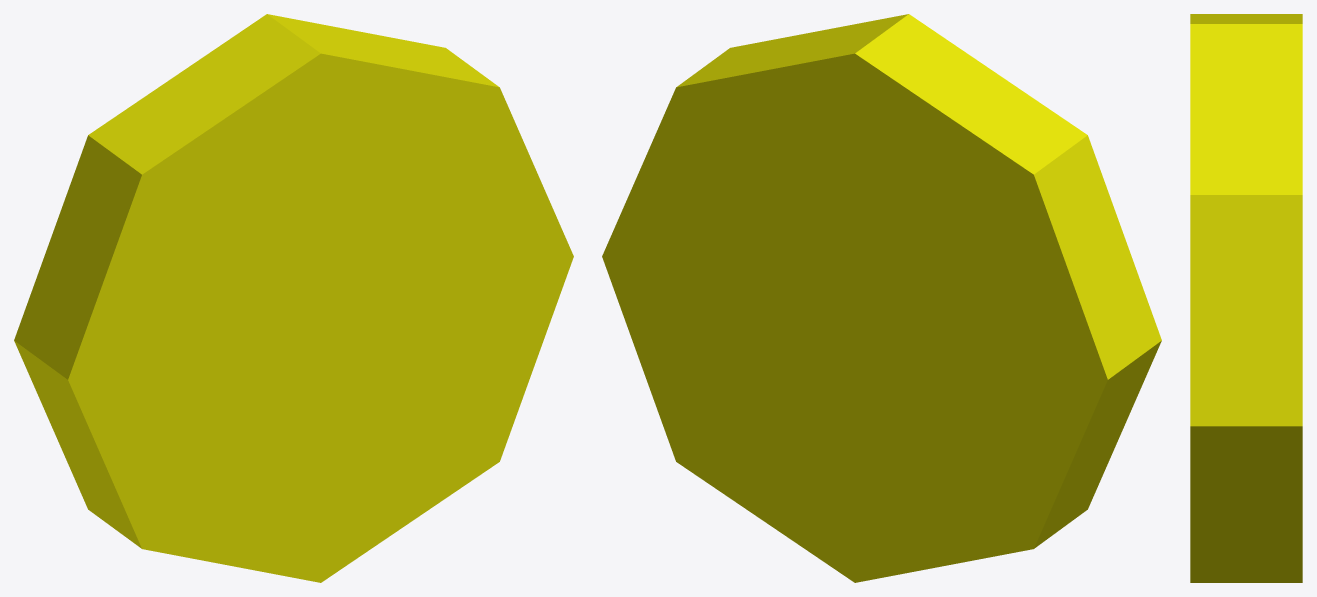
Rendered from coin.fbx.
The picture shows the model from 3 angles, left to right: view 1: azimuth 30°, elevation 25°; view 2: azimuth 150°, elevation 25°; view 3: azimuth 270°, elevation 25°; orthographic projection. The views are drawn at different scales.
Visible parts, largest first — view 1: Cylinder; view 2: Cylinder; view 3: Cylinder.
Part boxes in pixels (x1=…): Cylinder: x1=14, y1=14, x2=573, y2=582; Cylinder: x1=602, y1=14, x2=1161, y2=582; Cylinder: x1=1190, y1=14, x2=1302, y2=582.
Bounding box in the file's own units: 200 × 200 × 37.
